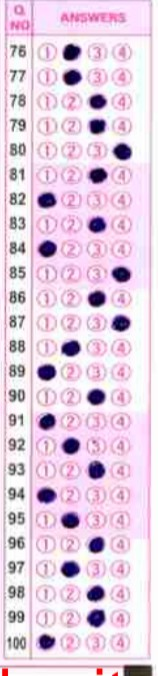filled circles: (37, 487, 57, 504), (87, 609, 105, 627), (88, 216, 107, 233), (61, 561, 80, 578), (87, 585, 105, 602), (38, 240, 56, 257), (113, 143, 131, 160), (89, 168, 108, 184), (63, 43, 80, 60), (62, 437, 79, 454), (88, 461, 105, 478), (87, 388, 105, 404), (61, 512, 79, 528), (62, 340, 80, 356), (112, 266, 130, 282), (37, 364, 55, 380), (38, 192, 56, 208), (88, 290, 105, 306), (112, 315, 129, 331), (63, 70, 81, 85), (39, 413, 55, 429), (88, 536, 104, 552), (89, 94, 106, 109), (39, 634, 55, 649), (89, 119, 106, 133)
